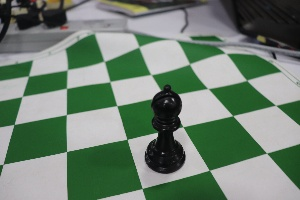black_bishop: (140, 72, 193, 180)
